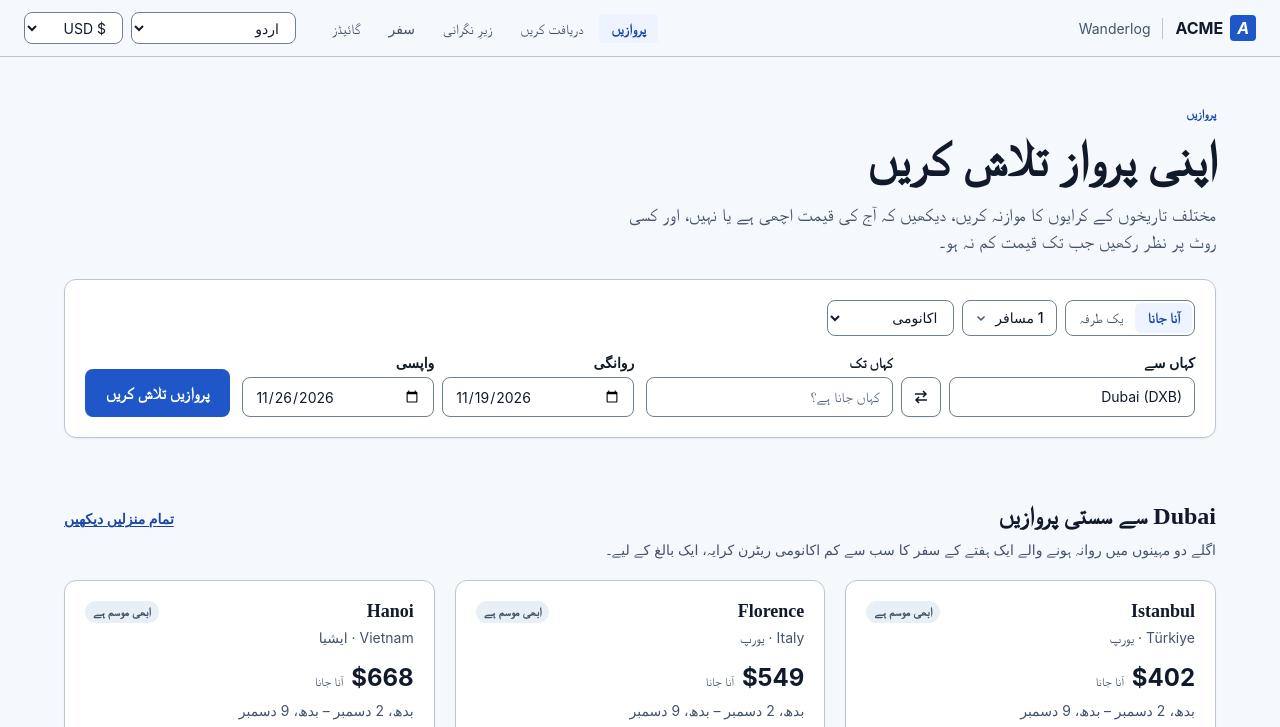
Test case: Languages › searches and reads results in Urdu
Type "KEF" into the field named "to" at (769, 397), box [646,377,892,417]
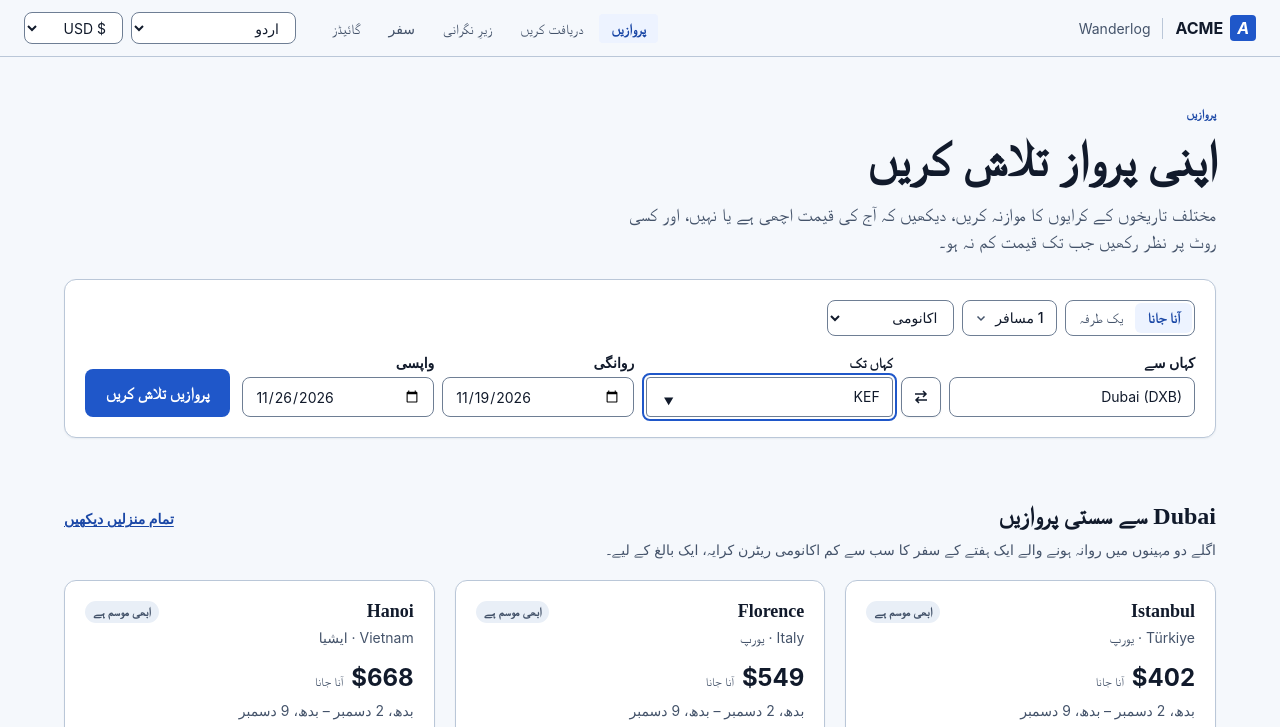
Click the submit button at (158, 393), box [85,369,230,417]
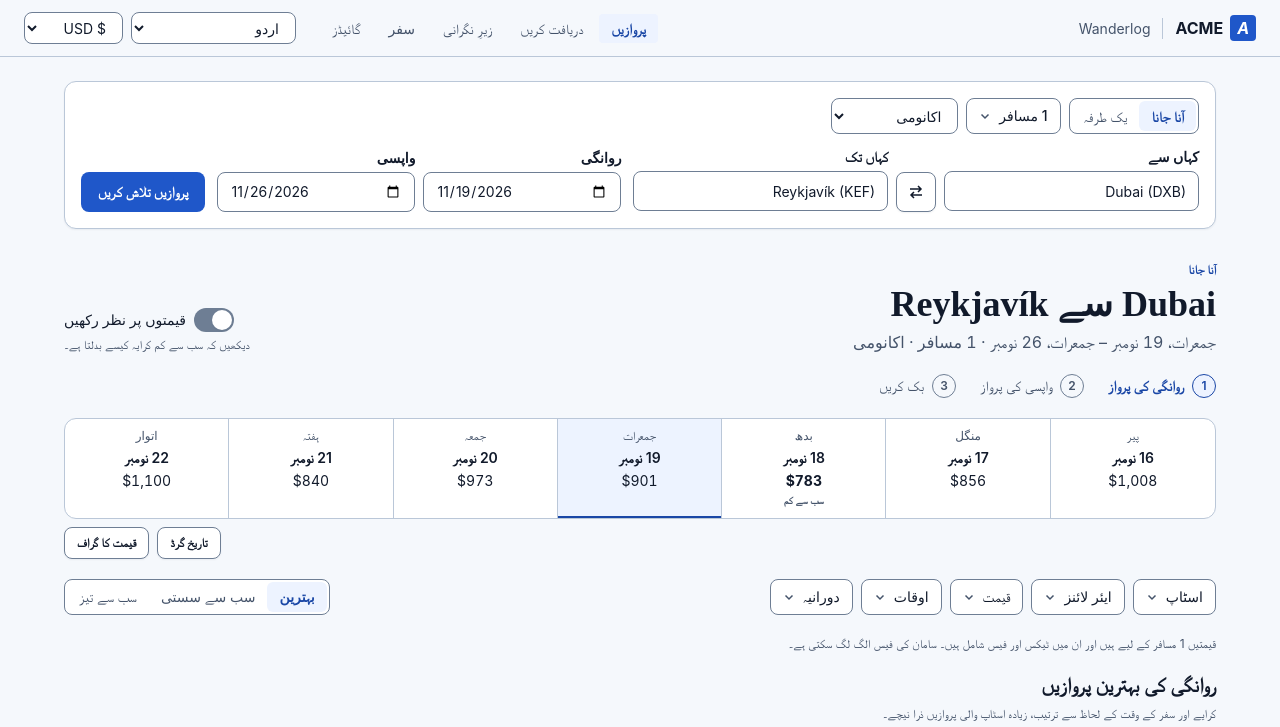
Check: the number of list items with class "flight-row" is more than 0
